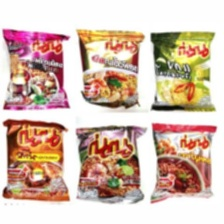snack: (71, 120, 150, 208), (73, 23, 149, 113), (0, 115, 75, 206), (147, 24, 220, 116), (0, 23, 74, 112), (148, 119, 220, 207)
